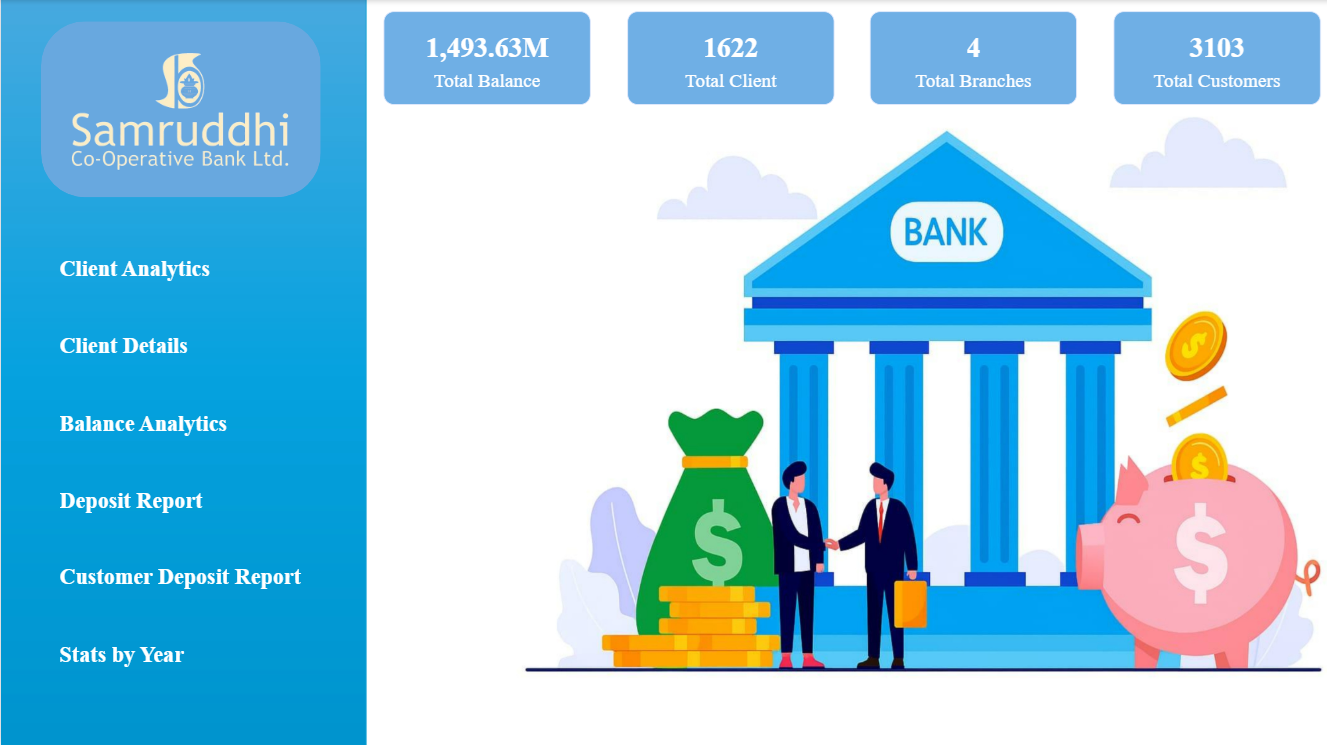

The page's visual inventory and layout, read from the dashboard file:
{"tool":"powerbi","page":{"name":"Home Page","canvas":[1280,720],"ordinal":0},"visuals":[{"type":"actionButton","box":[26,231.8,285,55],"z":0},{"type":"actionButton","box":[26,306.4,285,55],"z":1000},{"type":"actionButton","box":[26,381,285,55],"z":2000},{"type":"actionButton","box":[26,455.5,285,55],"z":3000},{"type":"actionButton","box":[26.5,529.8,307.6,55.5],"z":4000},{"type":"actionButton","box":[26,604.6,285,55],"z":5000},{"type":"shape","box":[38.6,20.5,270,170],"z":6000},{"type":"image","box":[43.4,22.9,260.6,164.1],"z":7000},{"type":"card","fields":{"Values":["Sum(Samruddhi bank (loan dump).Total Balance o/s 31.03.2023 (as per Loan account statement))"]},"box":[369.2,10.9,200.3,90.5],"z":8000},{"type":"card","fields":{"Values":["CountNonNull(Samruddhi bank (loan dump).Account Number)"]},"box":[604,10.9,200.3,90.5],"z":9000},{"type":"card","fields":{"Values":["Count(TD DUMP.Branch Code)"]},"box":[838.9,10.9,200.3,90.5],"z":10000},{"type":"card","fields":{"Values":["CountNonNull(TD DUMP.Customer ID)"]},"box":[1073.7,10.9,200.3,90.5],"z":11000}]}

Visuals, with their boxes in screenshot pixels (x1, y1, x2, y2), scaled from the page's 1280x720 canvas onto the 1327x745 screenshot:
actionButton: Rect(27, 240, 322, 297)
actionButton: Rect(27, 317, 322, 374)
actionButton: Rect(27, 394, 322, 451)
actionButton: Rect(27, 471, 322, 528)
actionButton: Rect(27, 548, 346, 606)
actionButton: Rect(27, 626, 322, 683)
shape: Rect(40, 21, 320, 197)
image: Rect(45, 24, 315, 193)
card - Sum(Samruddhi bank (loan dump).Total Balance o/s 31.03.2023 (as per Loan account statement)): Rect(383, 11, 590, 105)
card - CountNonNull(Samruddhi bank (loan dump).Account Number): Rect(626, 11, 834, 105)
card - Count(TD DUMP.Branch Code): Rect(870, 11, 1077, 105)
card - CountNonNull(TD DUMP.Customer ID): Rect(1113, 11, 1321, 105)
